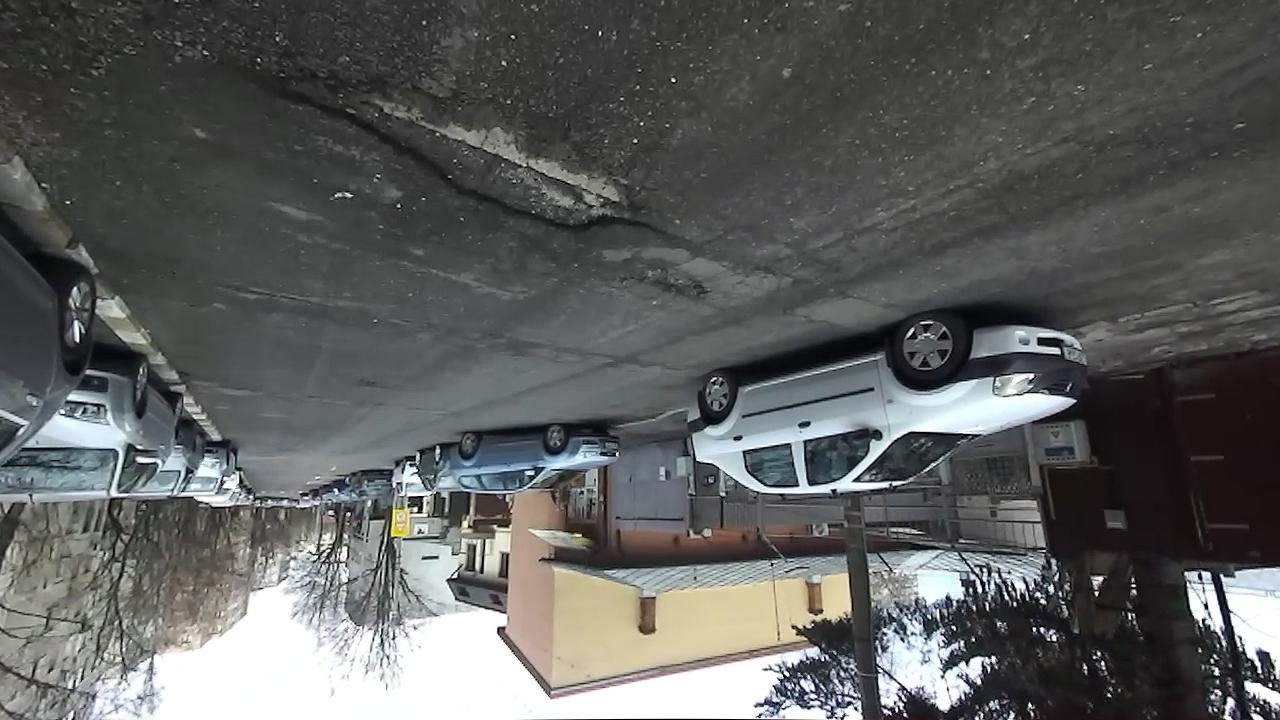pothole: (235, 59, 679, 246), (615, 263, 714, 311), (211, 276, 324, 313)
